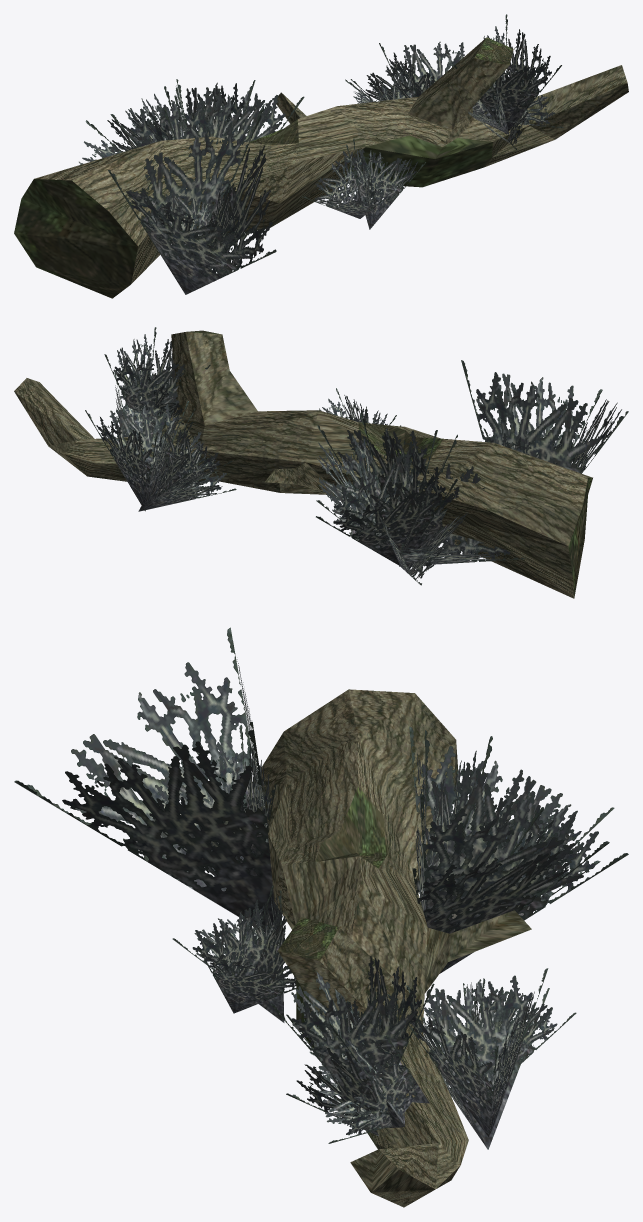
The model's file is c4sndedtreeh_dm.obj.
The picture shows the model from 3 angles, top to bottom: view 1: azimuth 30°, elevation 25°; view 2: azimuth 150°, elevation 25°; view 3: azimuth 270°, elevation 25°; orthographic projection. The views are drawn at different scales.
Parts seen in each view (by area): view 1: Node 0, Node 3; view 2: Node 0, Node 3; view 3: Node 3, Node 0.
Boxes of the visible parts, <box> form: Node 0: <box>14,37,628,298</box>; Node 3: <box>79,14,563,294</box>; Node 0: <box>14,330,592,598</box>; Node 3: <box>85,327,628,585</box>; Node 3: <box>14,627,628,1149</box>; Node 0: <box>252,689,531,1207</box>.
Bounding box in the file's own units: 6.55 × 1.91 × 3.89.
2 materials, 2 textured.
